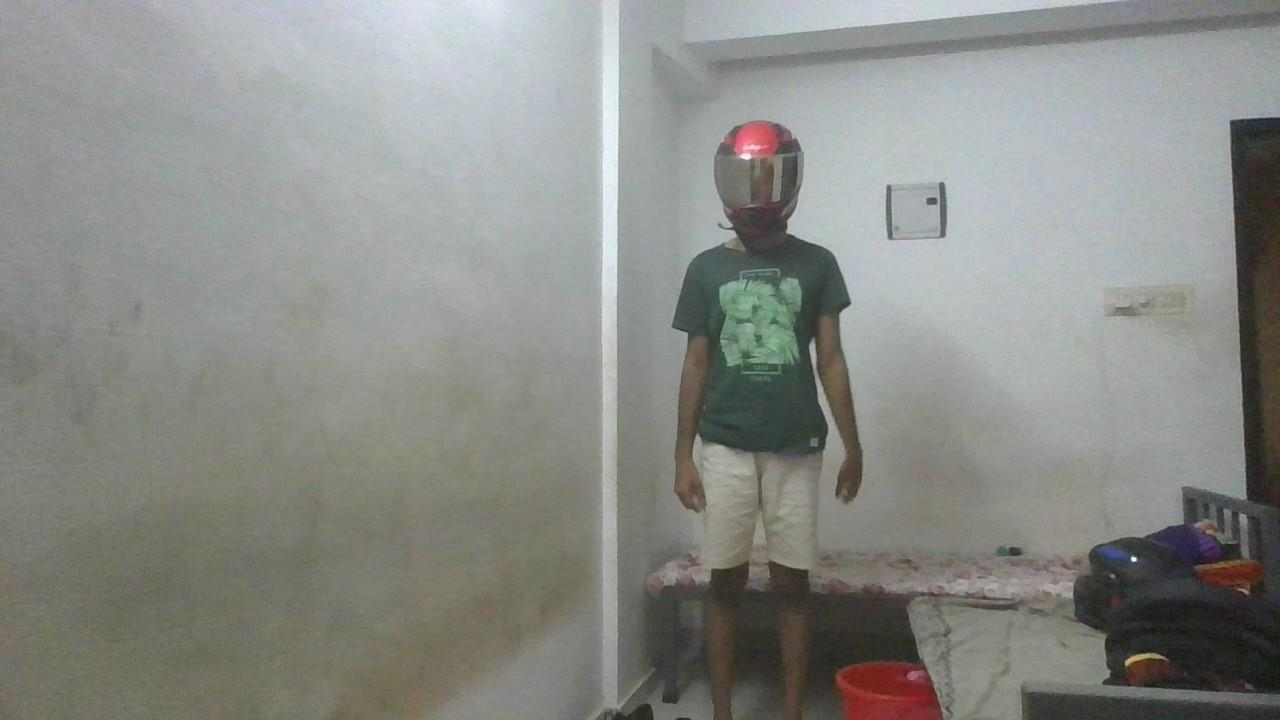helmet: (713, 119, 805, 238)
